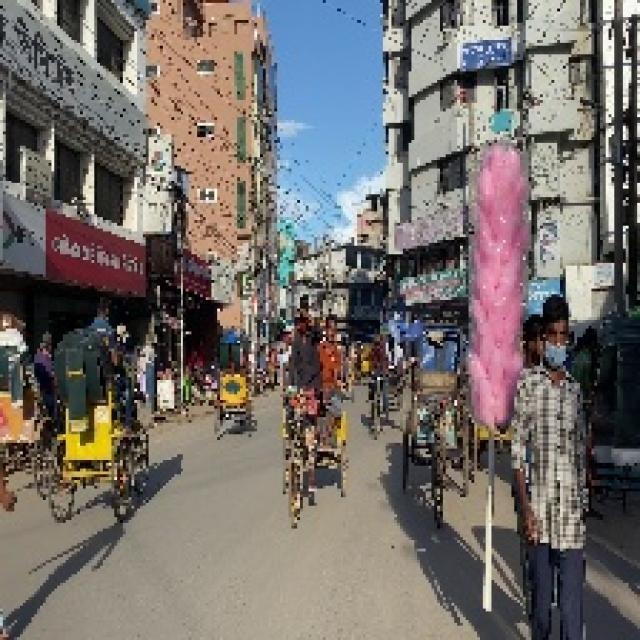rickshaw: (48, 328, 151, 523), (273, 329, 350, 526), (398, 322, 470, 525), (210, 325, 257, 440)
